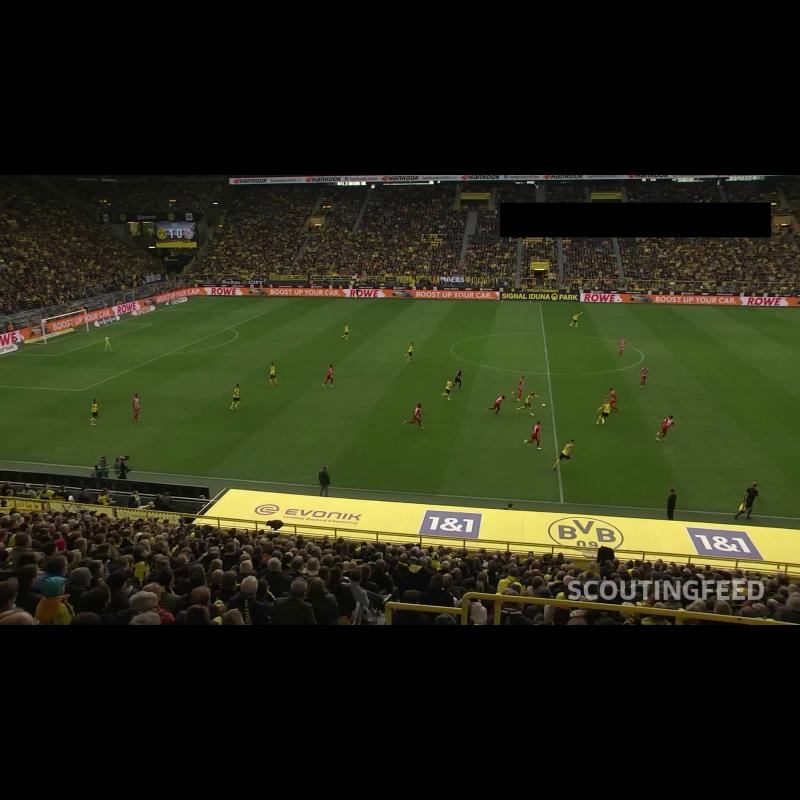cross_recipient_zone: (0, 310, 269, 390)
crossing_player_zone: (0, 386, 179, 466), (160, 297, 353, 313), (746, 309, 800, 325)
pitch: (0, 297, 800, 519)
